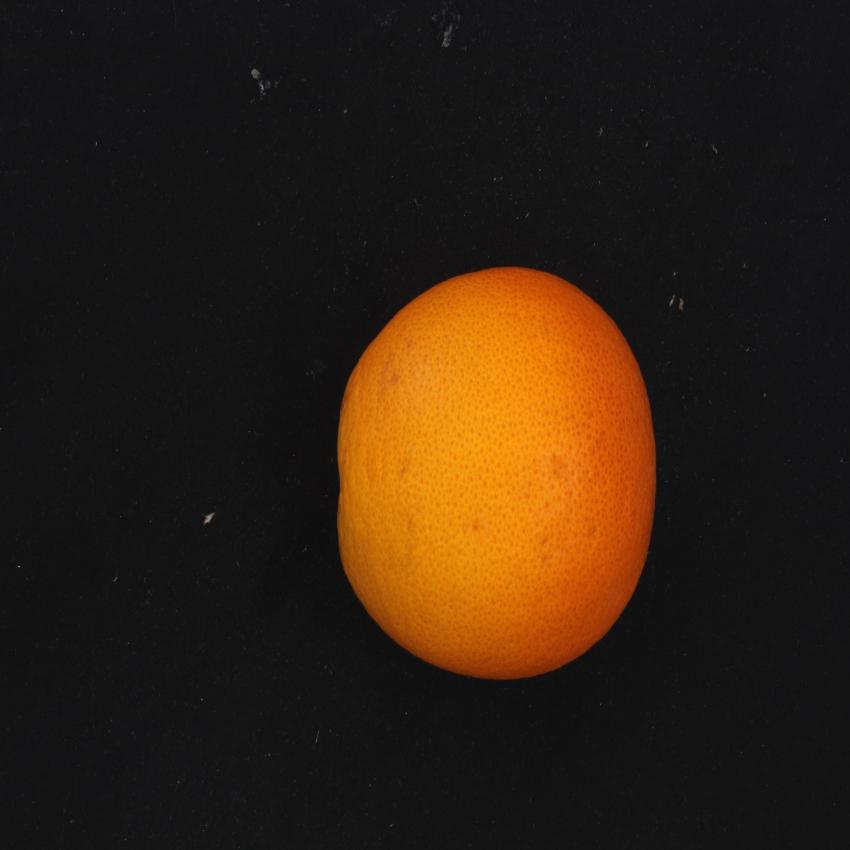Buen estado: (326, 250, 672, 706)
